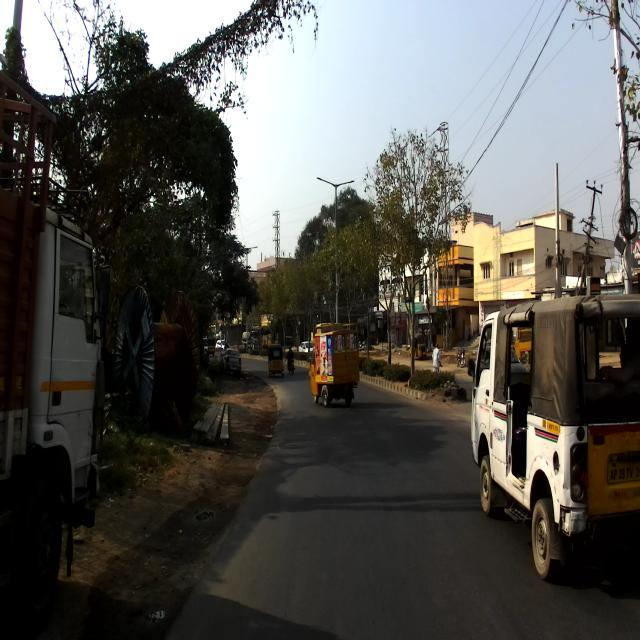auto ahead at: (307, 317, 360, 415)
car ahead at: (462, 297, 638, 572)
